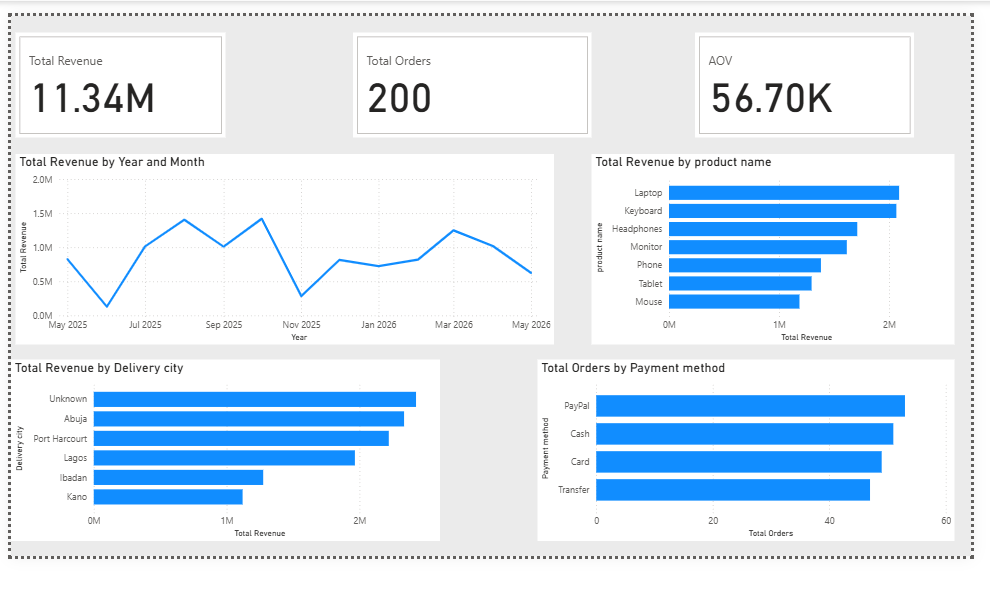

The dashboard page shown, as its layout file describes it:
{"tool":"powerbi","page":{"name":"Page 1","canvas":[1280,720],"ordinal":0},"visuals":[{"type":"cardVisual","fields":{"Data":["orders.Total Revenue"]},"box":[6,22,280,140],"z":0},{"type":"cardVisual","fields":{"Data":["orders.Total Orders"]},"box":[456,22,318,140],"z":1000},{"type":"cardVisual","fields":{"Data":["orders.AOV"]},"box":[912,22,292,140],"z":2000},{"type":"lineChart","fields":{"Category":["orders.Order date.Variation.Date Hierarchy.Month"],"Y":["orders.Total Revenue"]},"box":[6,184,718,254],"z":3000},{"type":"barChart","fields":{"Y":["orders.Total Revenue"],"Category":["customers.city"]},"box":[0,458,572,242],"z":4000},{"type":"clusteredBarChart","fields":{"Category":["orders.product name"],"Y":["orders.Total Revenue"]},"box":[774,184,468,254],"z":5000},{"type":"clusteredBarChart","fields":{"Category":["orders.Payment method"],"Y":["orders.Total Orders"]},"box":[702,458,556,242],"z":6000}]}

Visuals, with their boxes on the page's 1280x720 design canvas (x1, y1, x2, y2). These are canvas units, not pixel positions in the 990x589 screenshot, which may show the page scaled, cropped or inside an application window:
cardVisual - orders.Total Revenue: box(6, 22, 286, 162)
cardVisual - orders.Total Orders: box(456, 22, 774, 162)
cardVisual - orders.AOV: box(912, 22, 1204, 162)
lineChart - orders.Order date.Variation.Date Hierarchy.Month x orders.Total Revenue: box(6, 184, 724, 438)
barChart - orders.Total Revenue x customers.city: box(0, 458, 572, 700)
clusteredBarChart - orders.product name x orders.Total Revenue: box(774, 184, 1242, 438)
clusteredBarChart - orders.Payment method x orders.Total Orders: box(702, 458, 1258, 700)
